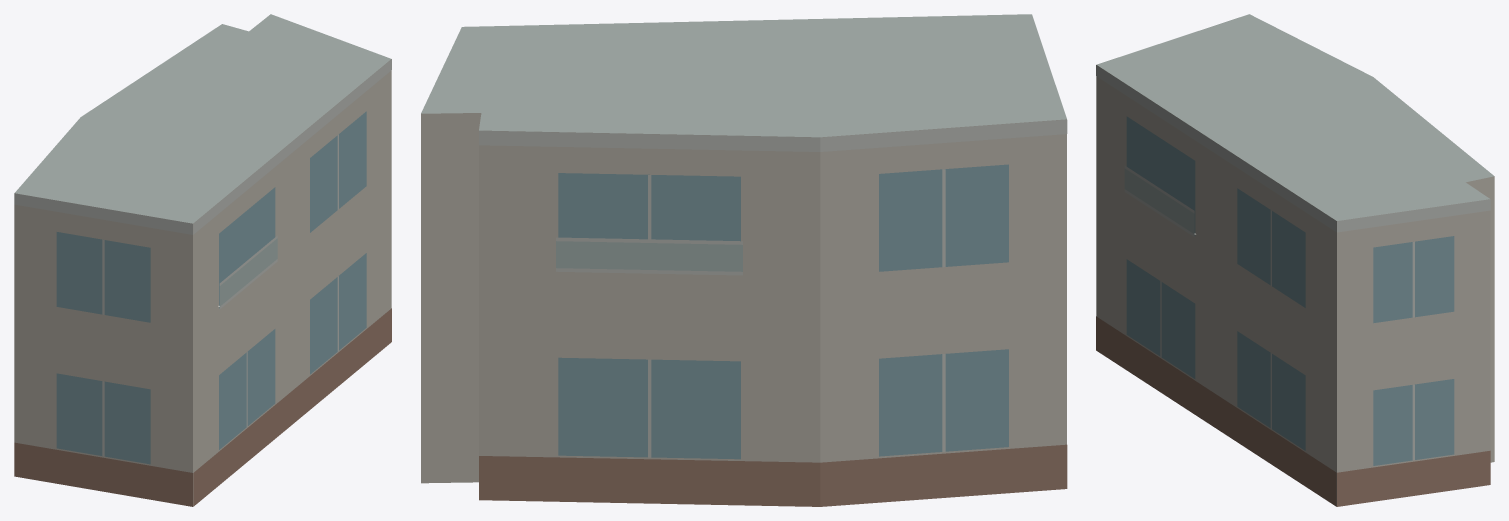
File: survey-upis-32461253.glb
The picture shows the model from 3 angles, left to right: view 1: azimuth 30°, elevation 25°; view 2: azimuth 150°, elevation 25°; view 3: azimuth 270°, elevation 25°; orthographic projection. The views are drawn at different scales.
Parts seen in each view (by area): view 1: survey-upis-32461253.tmp; view 2: survey-upis-32461253.tmp; view 3: survey-upis-32461253.tmp.
Part boxes in pixels (x1,y1,x2,y2): survey-upis-32461253.tmp: [14, 14, 391, 506]; survey-upis-32461253.tmp: [421, 14, 1067, 506]; survey-upis-32461253.tmp: [1096, 14, 1494, 506].
Size of the model in its own units: 9.49 by 6.1 by 7.72.
